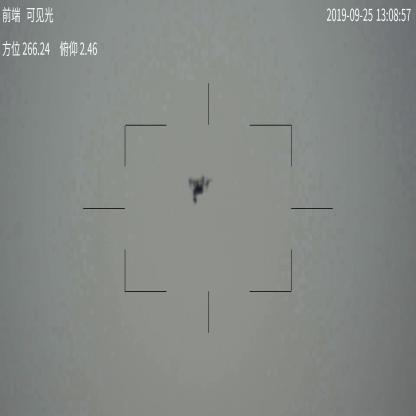uav: (187, 174, 213, 204)
